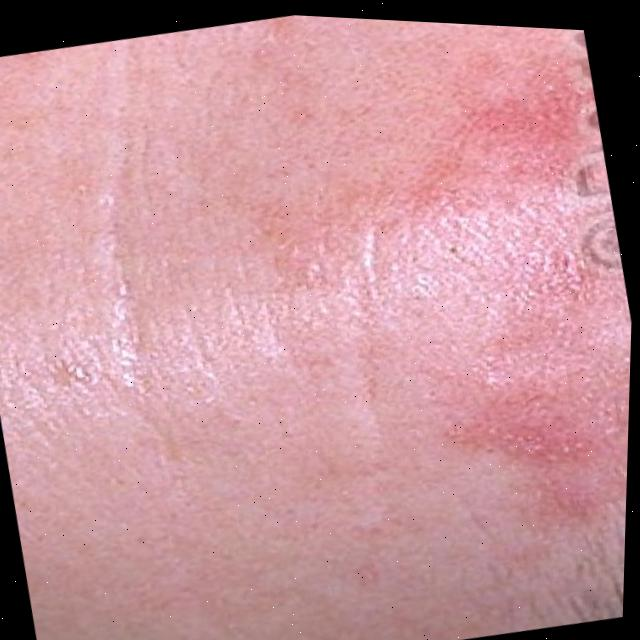Rosacea: (355, 53, 639, 509)
